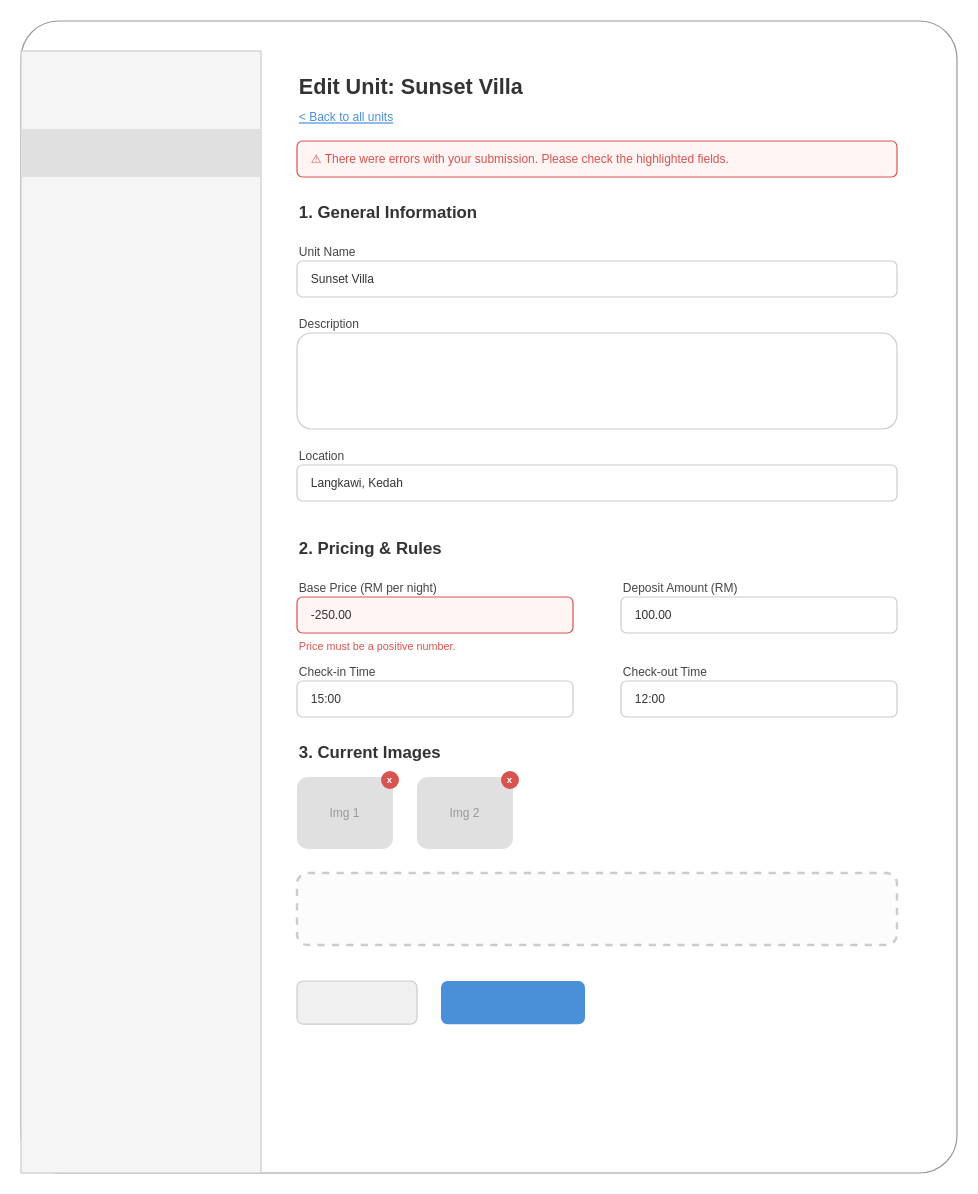
Some shapes in this 978 by 1194 pixel diagram are drawn without their labels. The shapes that lost their labels are listed below. From the top down, each one's centre as x and y in pixels, then its label:
At [140,152]: "Homestay Units".
At [596,380]: "Enjoy a beautiful sunset view from this cozy villa...".
At [596,908]: "➕ Add more images".
At [356,1002]: "Cancel".
At [512,1002]: "Save Changes".
